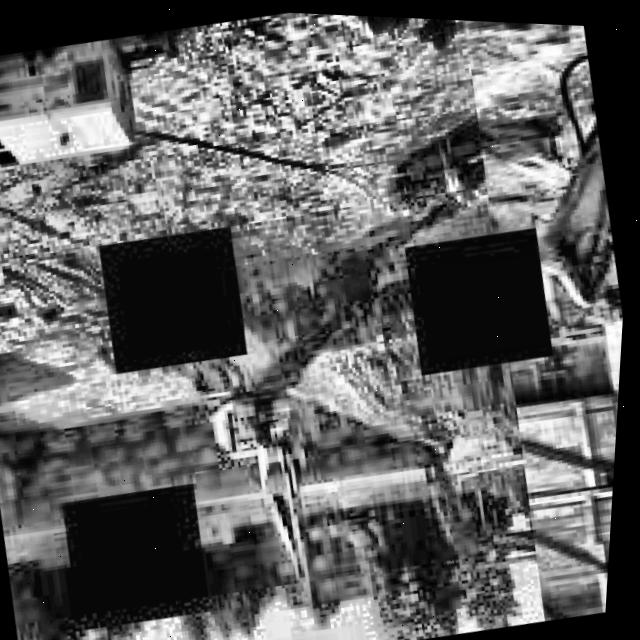excavator: (442, 16, 640, 357), (180, 346, 346, 631), (425, 430, 549, 588)
